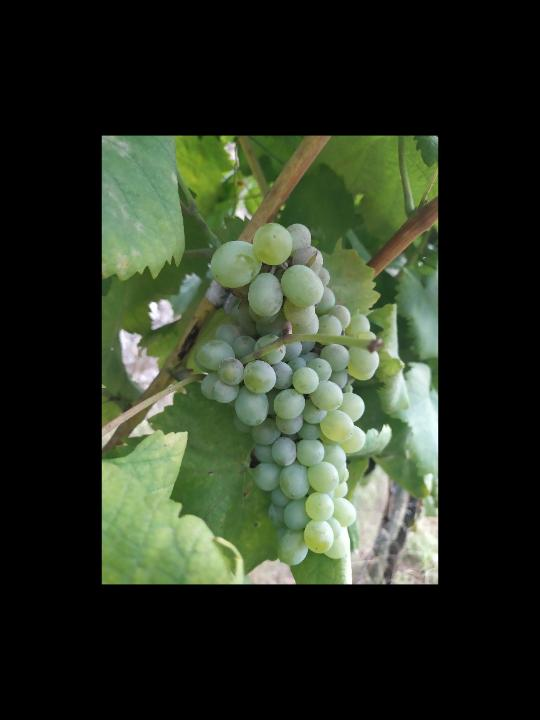grape: (196, 221, 382, 566)
